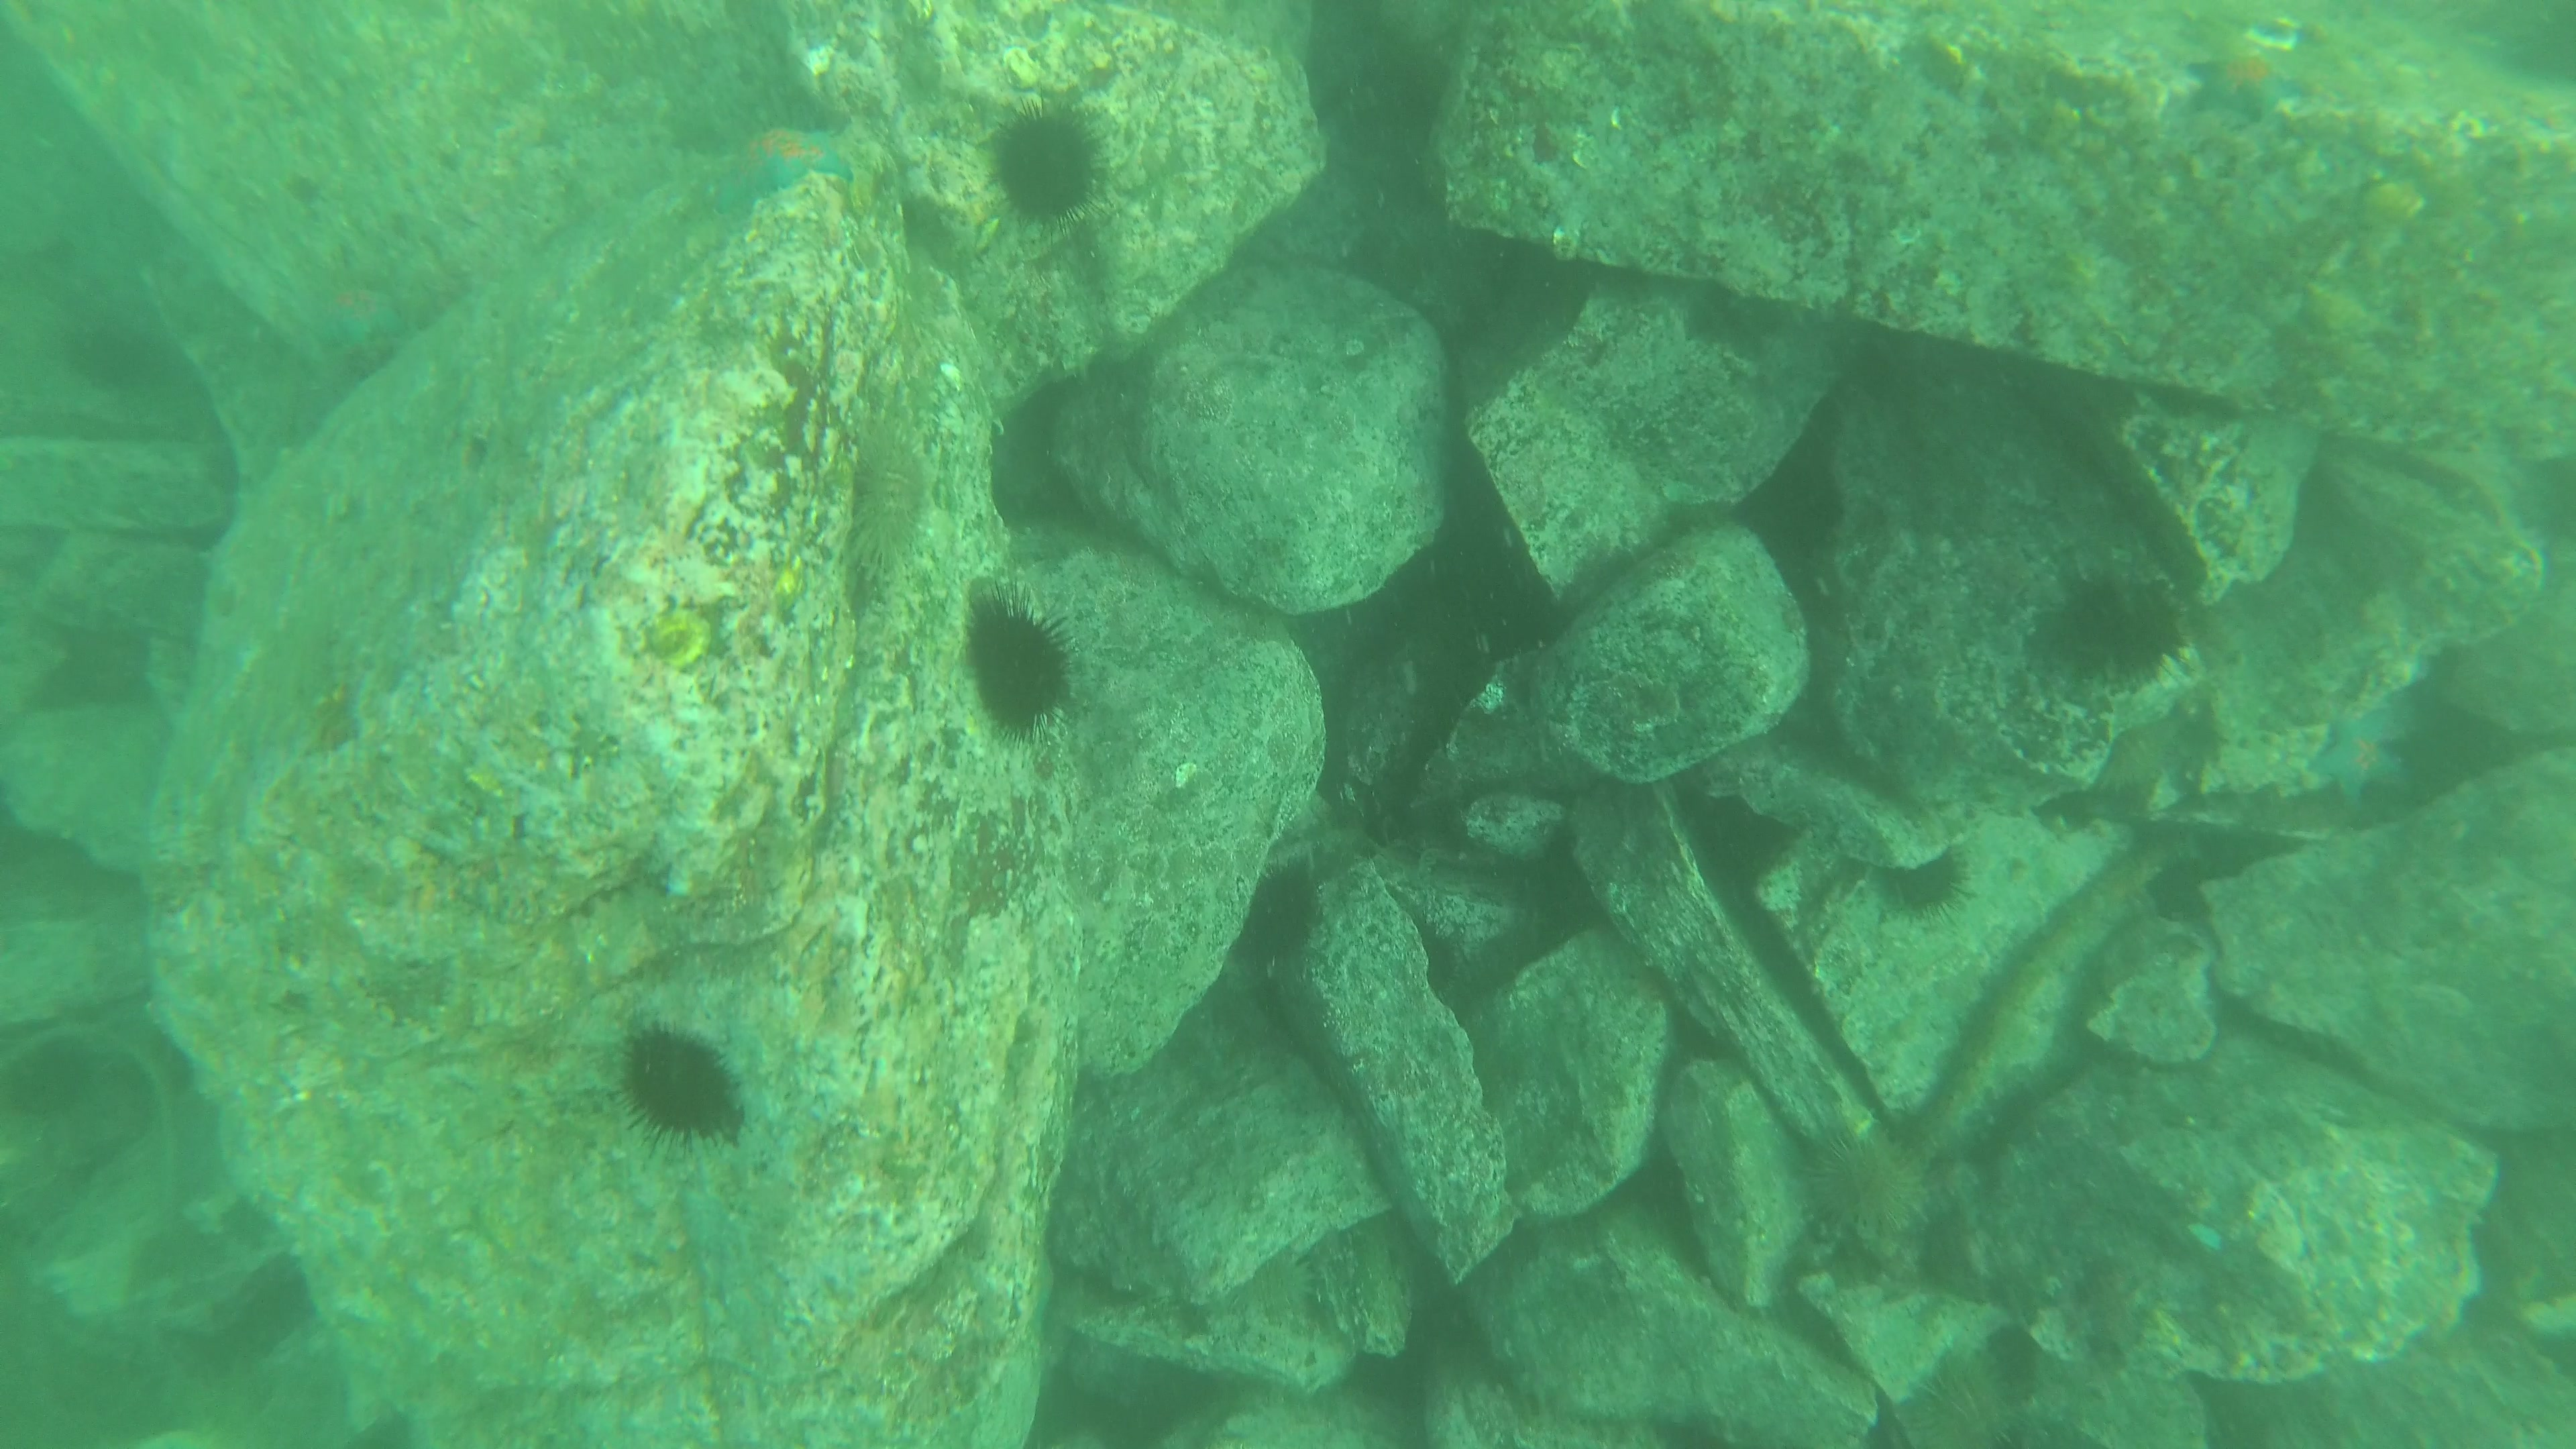echinus: (961, 596, 1077, 738), (619, 1030, 750, 1148), (2052, 573, 2181, 685), (989, 103, 1108, 219), (1748, 472, 1844, 564), (1884, 844, 1966, 913)
starfish: (729, 119, 844, 209), (2316, 699, 2411, 794)
